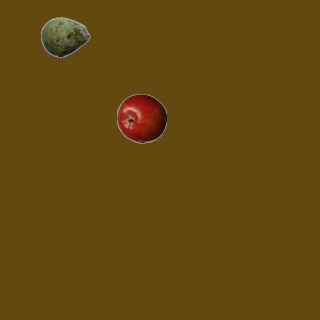Apple Braeburn: (116, 93, 166, 143)
Pear Stone: (40, 12, 90, 62)
